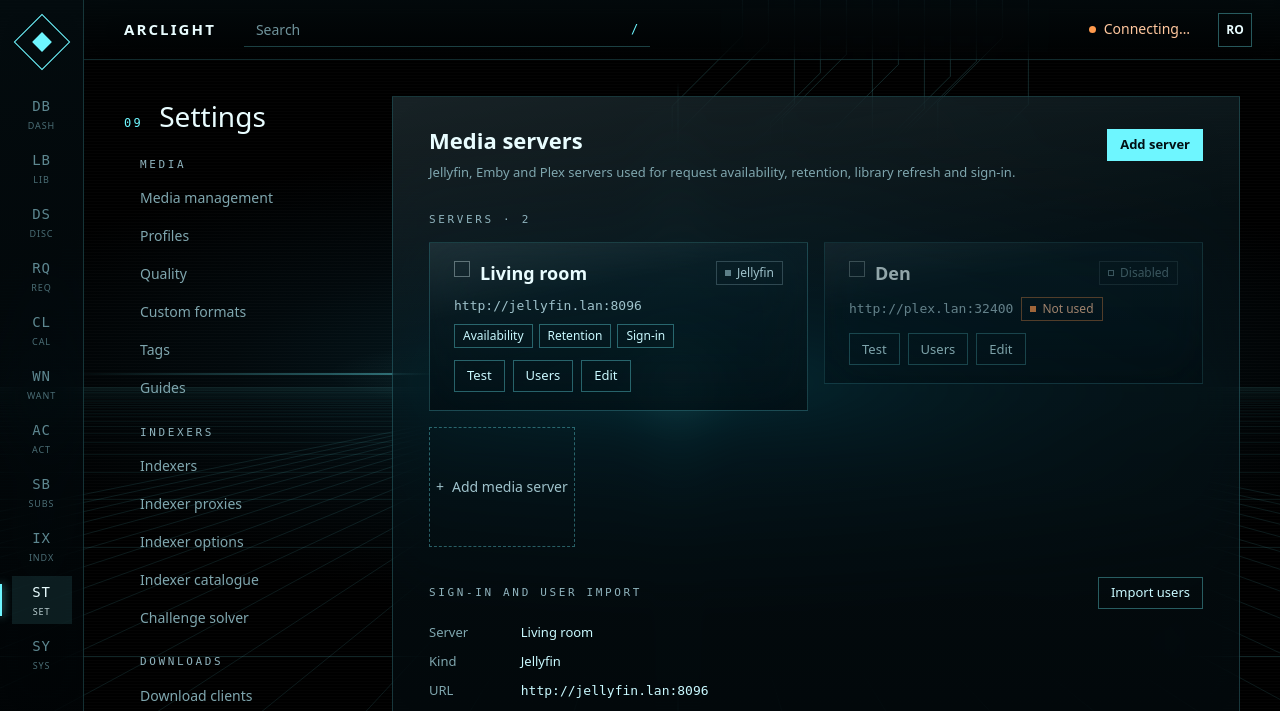
Test: Settings → Media servers › tests a saved server from its card and shows its accounts
The image size is (1280, 711).
Click the 2nd button "Test" at (479, 376), box [454, 360, 505, 392]
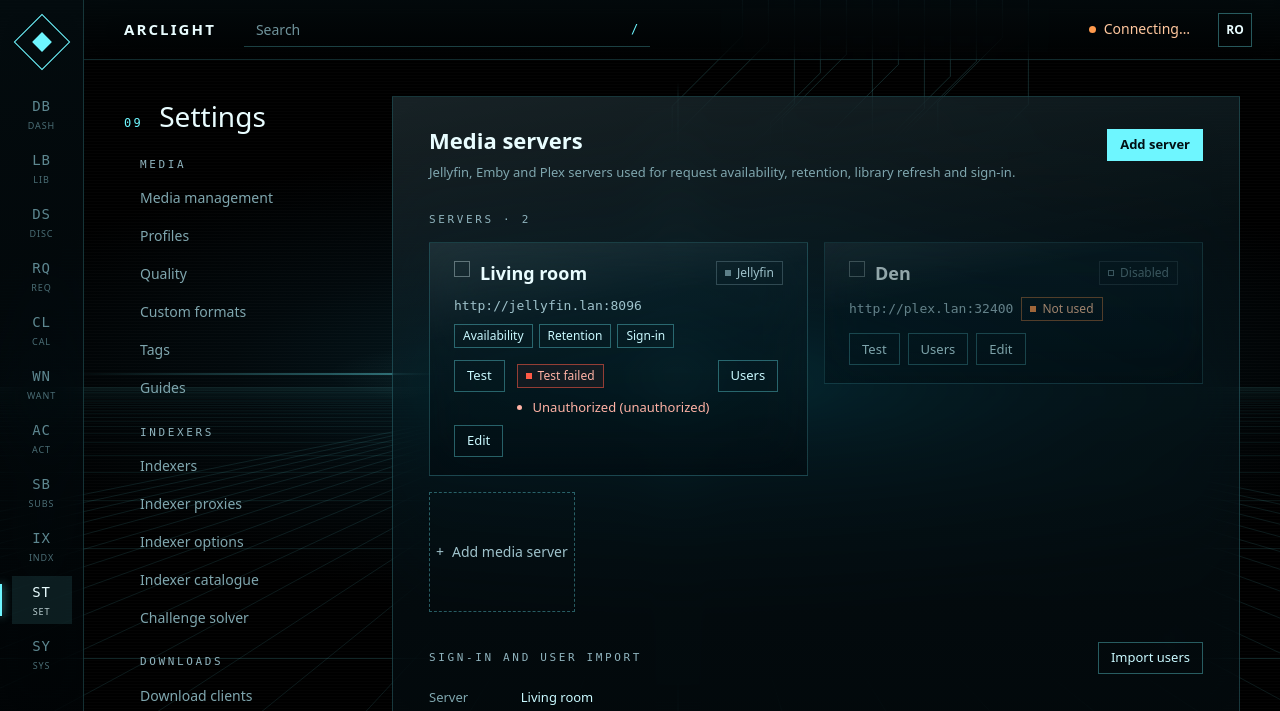
Expected: the list item "Unauthorized (unauthorized)" is shown, [533, 398, 710, 417]
Click the button with aria-label "Accounts on Living room" at (748, 376), box [718, 360, 778, 392]
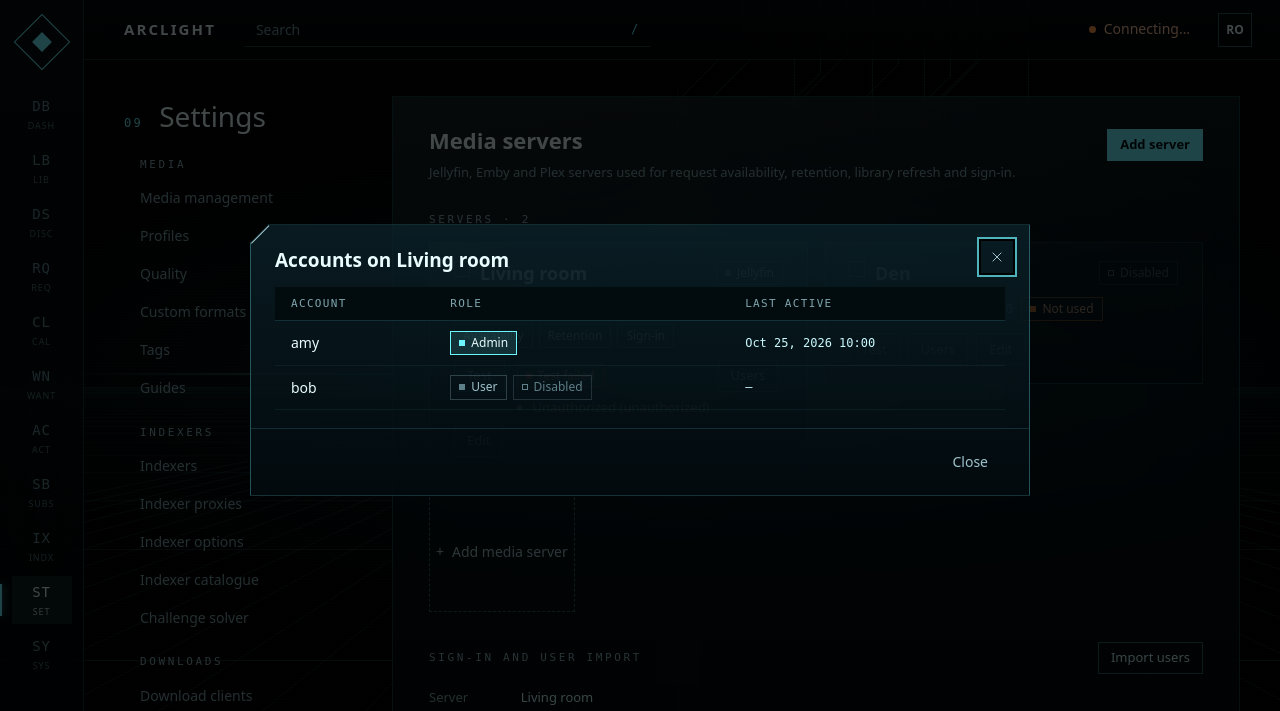
Expected: the text "amy" is shown, [275, 321, 434, 365]
Expected: the text "Admin" is shown, [450, 331, 517, 355]
Expected: the text "Disabled" is shown, [513, 375, 592, 400]
